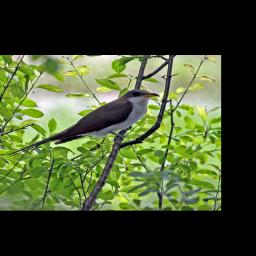Cuckoo: (9, 89, 162, 158)
